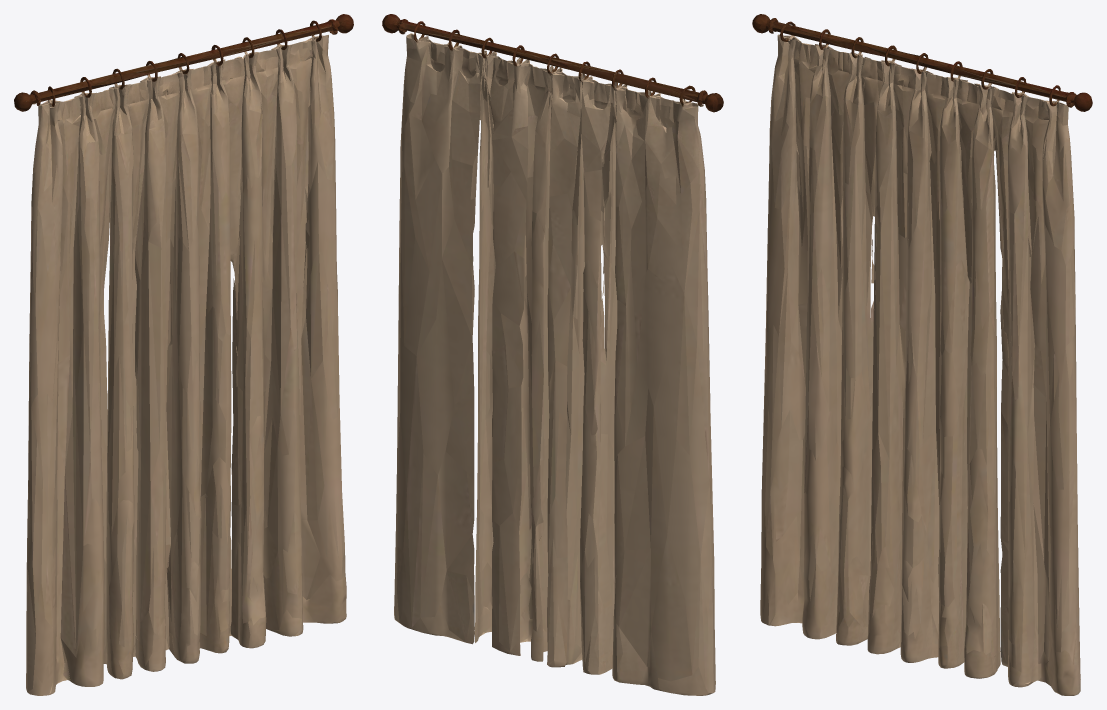
The model's file is w5curtain.glb.
3 renders of one model, left to right at view 1: azimuth 30°, elevation 25°; view 2: azimuth 150°, elevation 25°; view 3: azimuth 330°, elevation 25°, orthographic.
Visible parts, largest first — view 1: output_unwrapped; view 2: output_unwrapped; view 3: output_unwrapped.
Boxes of the visible parts, x1,y1,x2,y2 form: output_unwrapped: [14, 14, 353, 695]; output_unwrapped: [382, 14, 723, 695]; output_unwrapped: [752, 14, 1092, 695].
Size of the model in its own units: 1.41 by 2.4 by 0.1951.
Materials: 1 (1 with a texture image).
